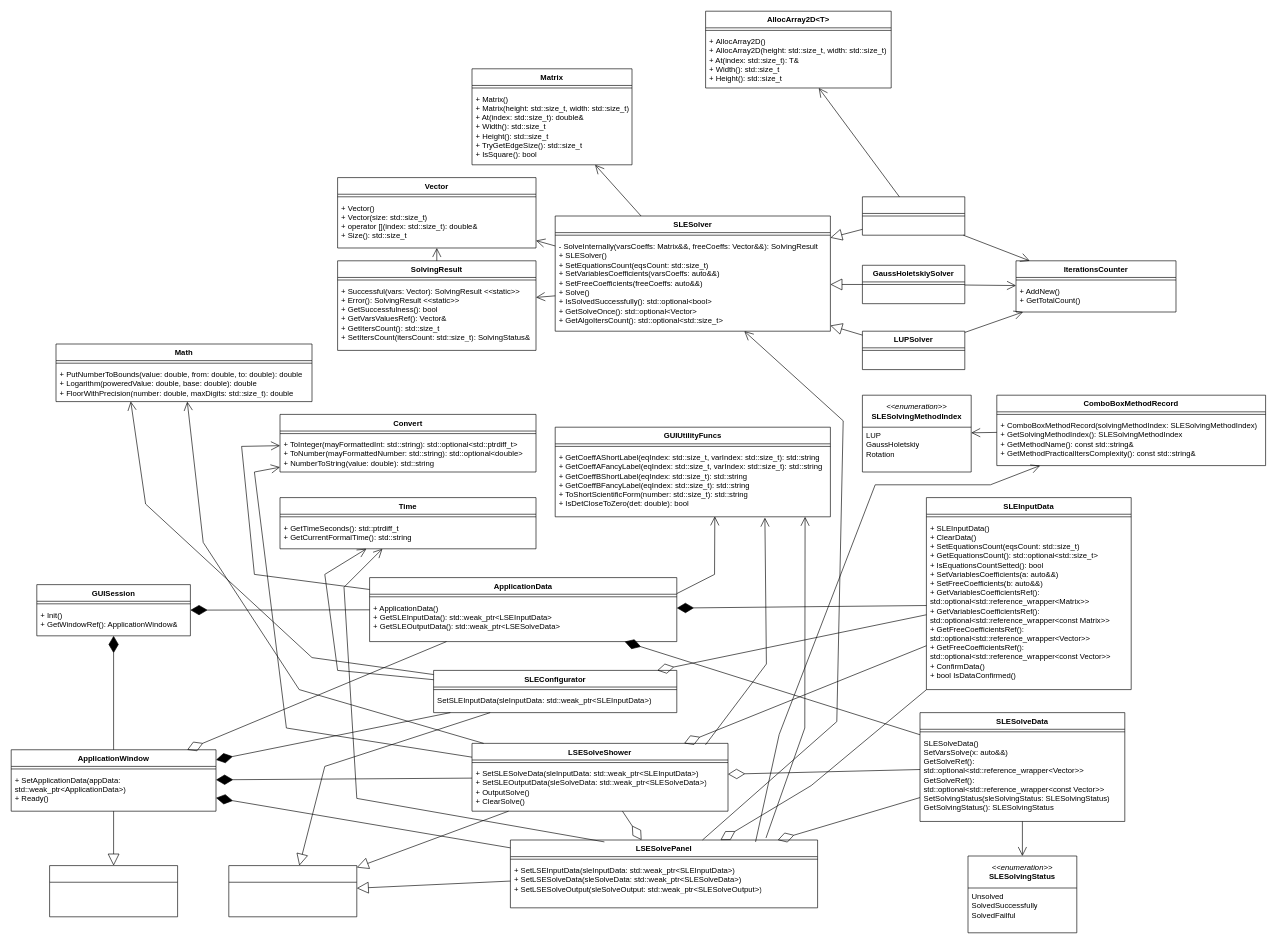
This 1277x946 diagram has some shape labels left out. Here are the shapes that lost their labels. From the top down, the centre of each, then its label:
At point (913, 215): "RotationSolver".
At point (113, 891): "Gtk::Window".
At point (292, 891): "Gtk::Frame".
